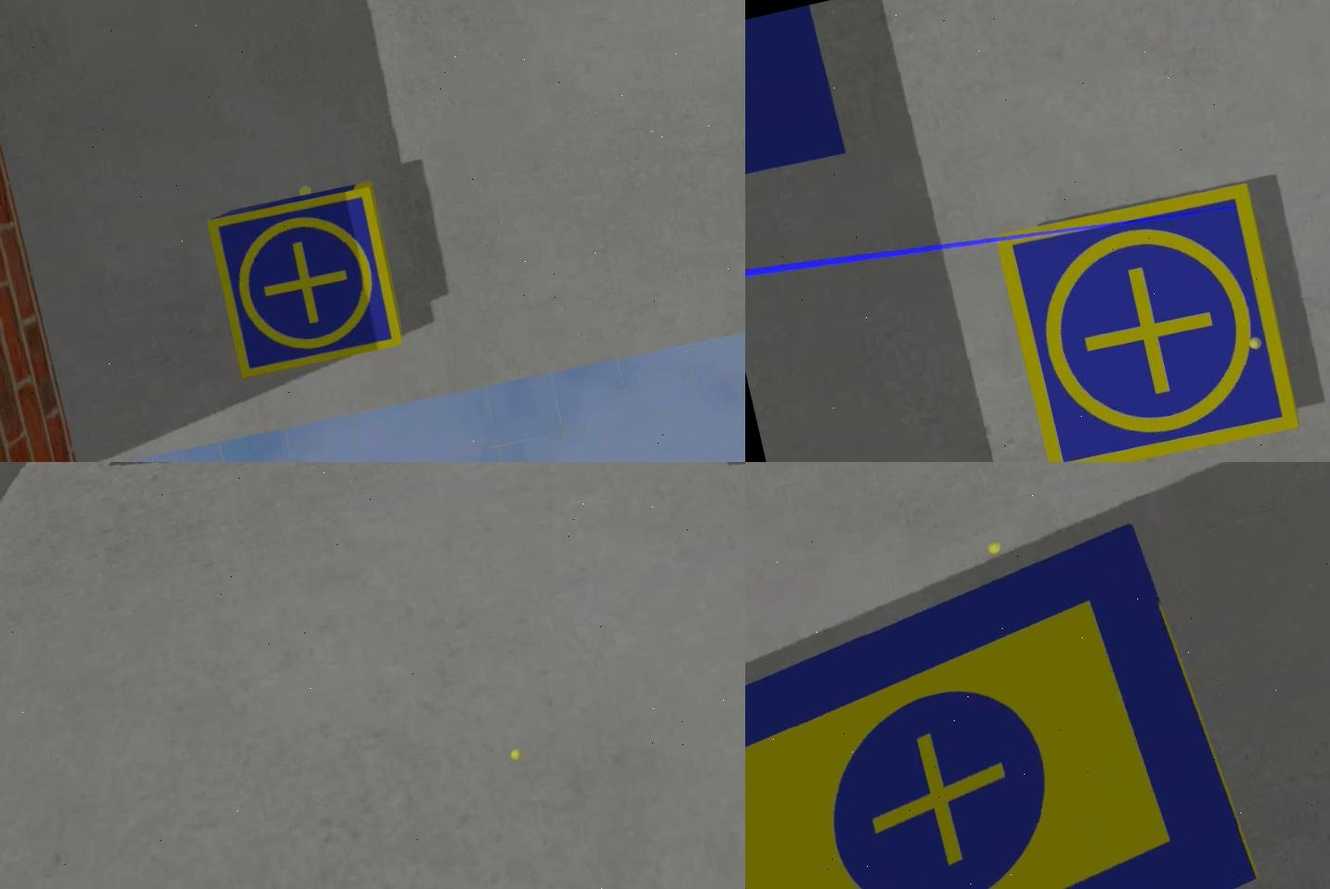large_base: (744, 506, 1277, 889), (744, 4, 850, 192)
small_base: (991, 179, 1305, 462), (203, 182, 409, 385)
